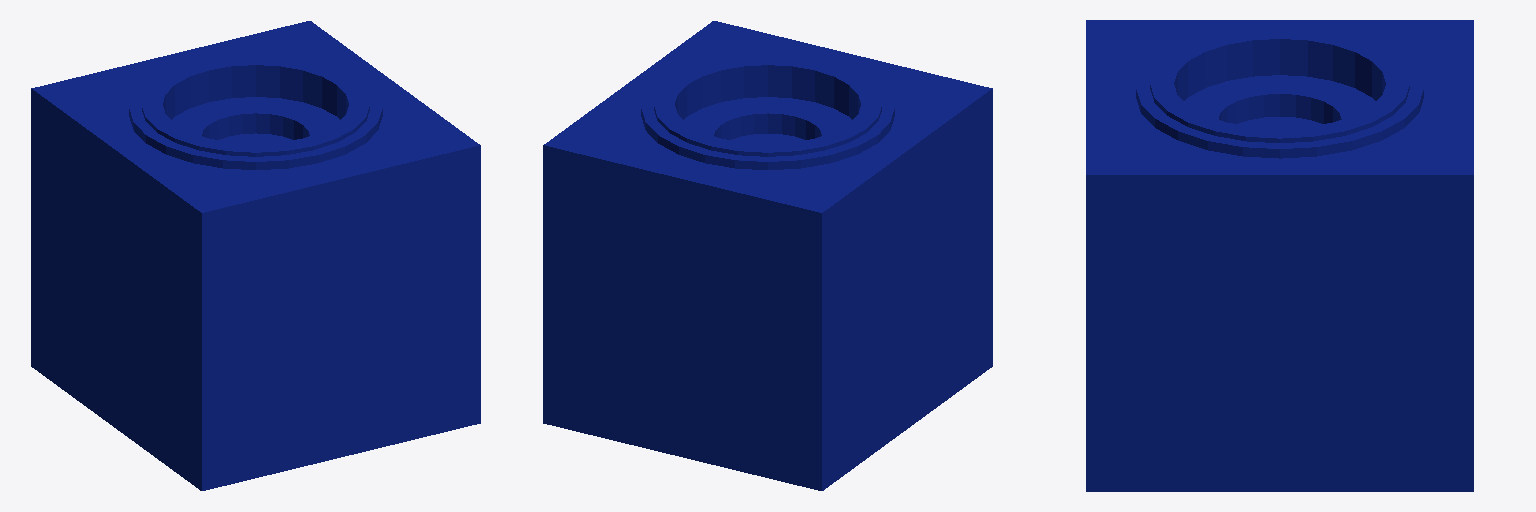
URDF robot description (block):
<robot name="block">
  <link name="block_base_link">
    <contact>
      <lateral_friction value="0.2"/>
      <rolling_friction value="0.001"/>
      <contact_cfm value="0.0"/>
      <contact_erp value="1.0"/>
    </contact>
    <inertial>
      <origin rpy="0 0 0" xyz="0 0 0"/>
      <mass value="0.05"/>
      <inertia ixx="0" ixy="0" ixz="0" iyy="0" iyz="0" izz="0"/>
    </inertial>
    <visual>
      <origin rpy="0 0 0" xyz="0 0 0"/>
      <geometry>
        <mesh filename="0.obj" scale="1 1 1"/>
      </geometry>
      <material name="tray_material">
        <color rgba="0.1 0.2 0.6 1"/>
      </material>
    </visual>
    <collision>
      <origin rpy="0 0 0" xyz="0 0 0"/>
      <geometry>
        <mesh filename="0.obj" scale="1 1 1"/>
      </geometry>
    </collision>
  </link>
</robot>

--- What the picture shows (computed from the rendered views, not written in the file) ---
3 views of the same robot in one strip: view 1: azimuth 30°, elevation 25°; view 2: azimuth 150°, elevation 25°; view 3: azimuth 270°, elevation 25° (orthographic).
Model block with 1 links and 0 joints (none), rooted at block_base_link, posed every joint at zero.
Links seen in each view (by area): view 1: block_base_link; view 2: block_base_link; view 3: block_base_link.
Link boxes in pixels (bbox=[...]): block_base_link: bbox=[31, 21, 480, 490]; block_base_link: bbox=[543, 21, 992, 490]; block_base_link: bbox=[1086, 20, 1473, 491].
Bounding box of the posed robot: 0.0401 × 0.0425 × 0.04 m (x, y, z).
Meshes: 1 distinct files referenced, 1 mesh visuals loaded (1 OBJ).